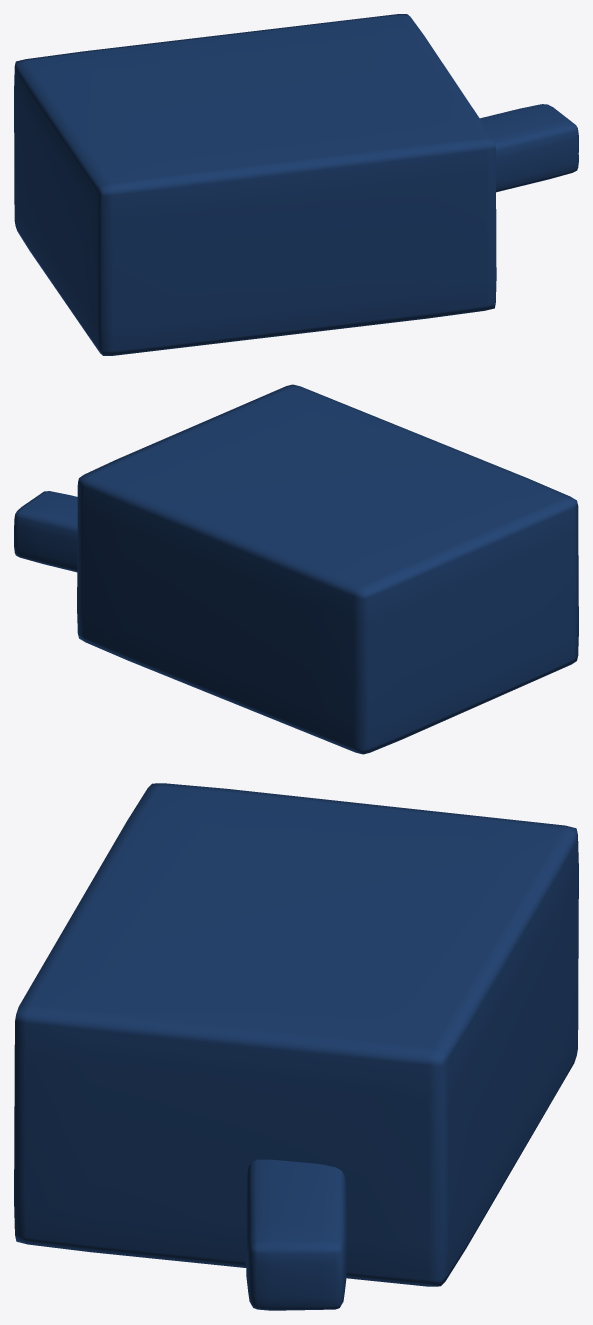
File: mirror_right.glb
The picture shows the model from 3 angles, top to bottom: view 1: azimuth 30°, elevation 25°; view 2: azimuth 150°, elevation 25°; view 3: azimuth 270°, elevation 25°; orthographic projection. The views are drawn at different scales.
Visible parts, largest first — view 1: GEO_Mirror_Right; view 2: GEO_Mirror_Right; view 3: GEO_Mirror_Right.
Part boxes in pixels (x1,y1,x2,y2): GEO_Mirror_Right: (14, 14, 578, 355); GEO_Mirror_Right: (14, 384, 578, 754); GEO_Mirror_Right: (14, 783, 578, 1310).
Size of the model in its own units: 0.1993 by 0.0648 by 0.1369.
